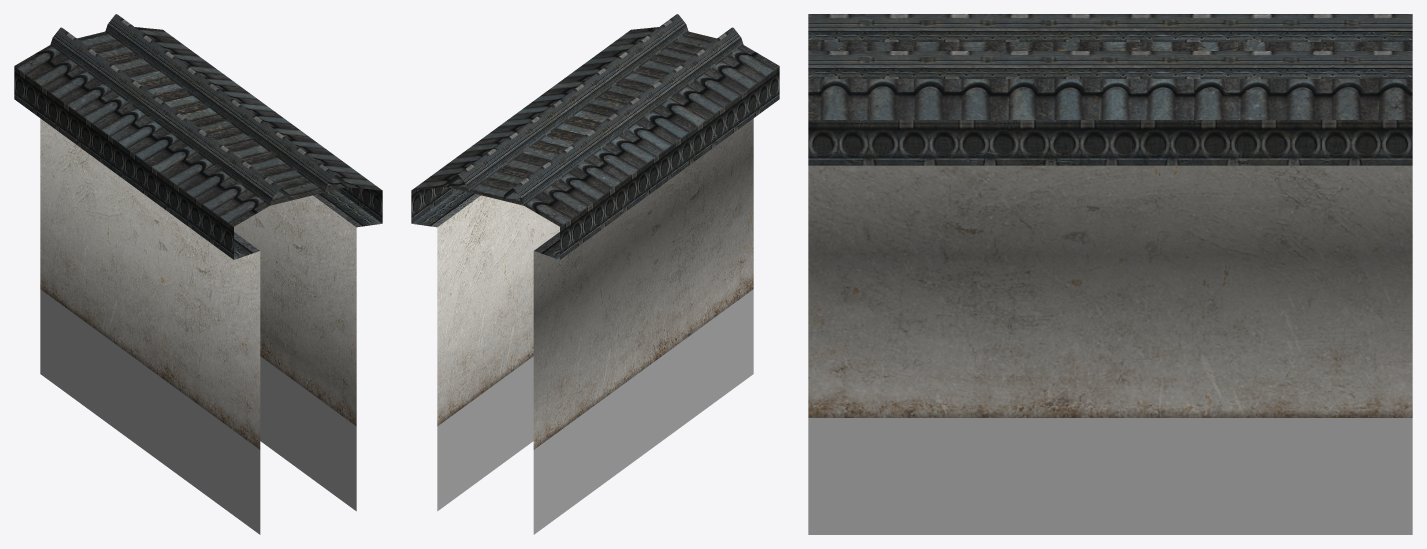
Rendered from wall_middle_high_002.fbx.
The picture shows the model from 3 angles, left to right: view 1: azimuth 30°, elevation 25°; view 2: azimuth 150°, elevation 25°; view 3: azimuth 270°, elevation 25°; orthographic projection. The views are drawn at different scales.
Parts seen in each view (by area): view 1: wall_middle_high_002; view 2: wall_middle_high_002; view 3: wall_middle_high_002.
Part boxes in pixels (x1,y1,x2,y2): wall_middle_high_002: (14,14,382,534); wall_middle_high_002: (411,14,779,534); wall_middle_high_002: (808,14,1412,534).
Size of the model in its own units: 61.59 by 135 by 157.
